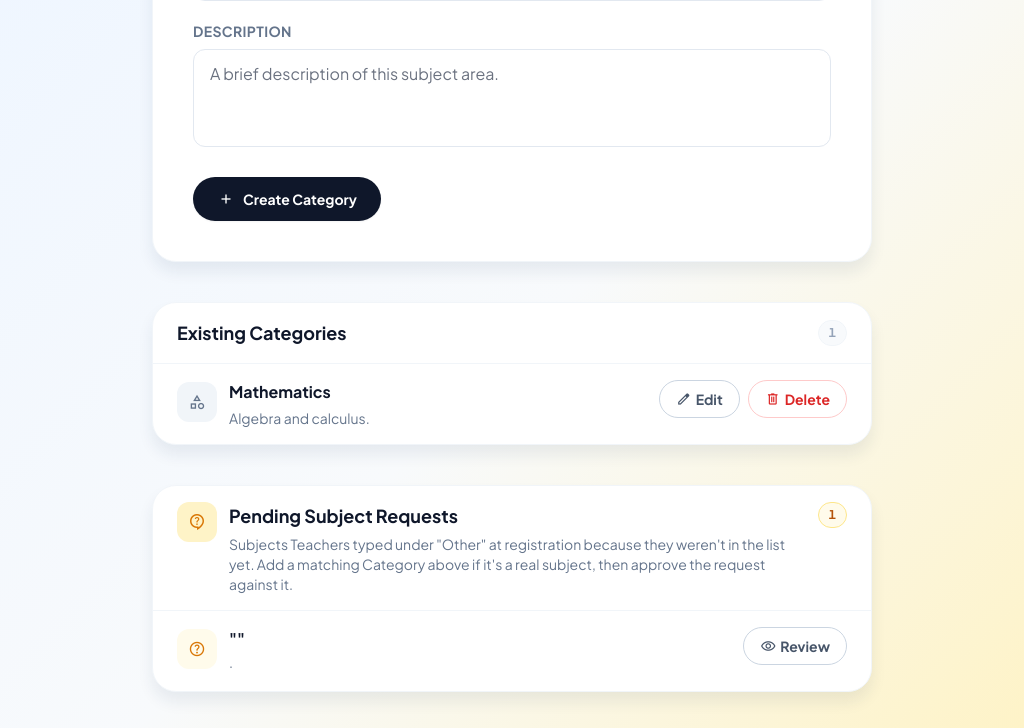
Test: CategoryManagementPage › shows Session Ended if editing itself comes back 401
The width and height of the screenshot is (1024, 728).
(page scrolled)
Expected: the text "Mathematics" is shown, [229,381,331,402]
What coordinates should you click on to do the following:
click the button "Edit"
I would click on:
 (699, 399)
Its box is [659,380,740,418].
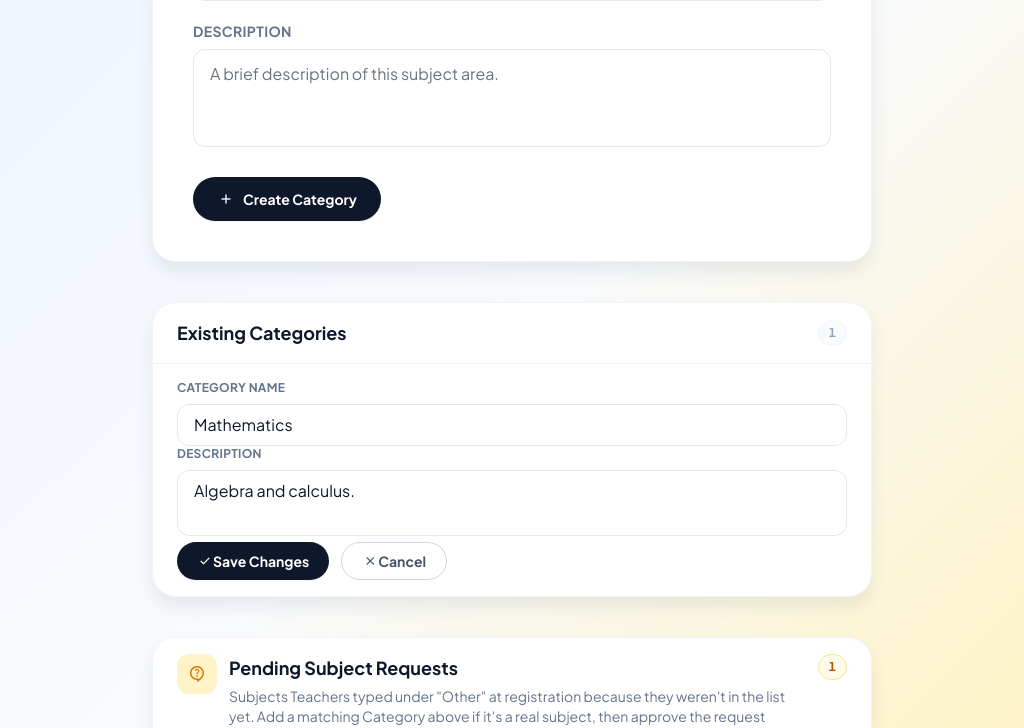
What coordinates should you click on to do the following:
click the button "Save Changes"
I would click on:
 (253, 561)
Its box is [177,542,329,580].
(page scrolled)
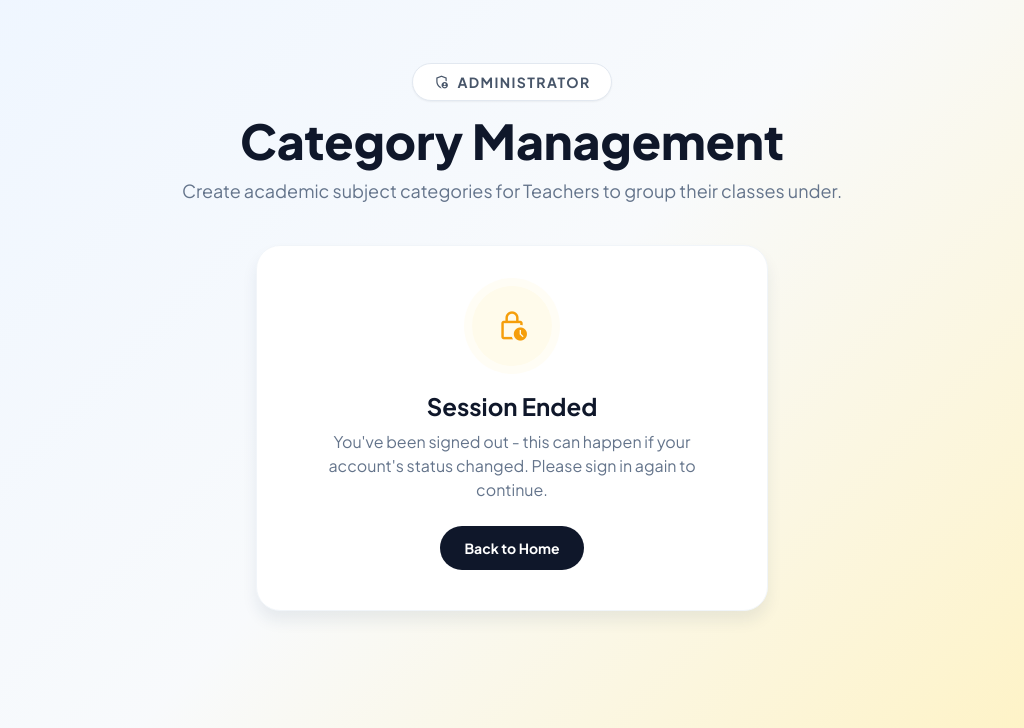
Expected: the heading "Session Ended" is shown, [427,391,597,421]
